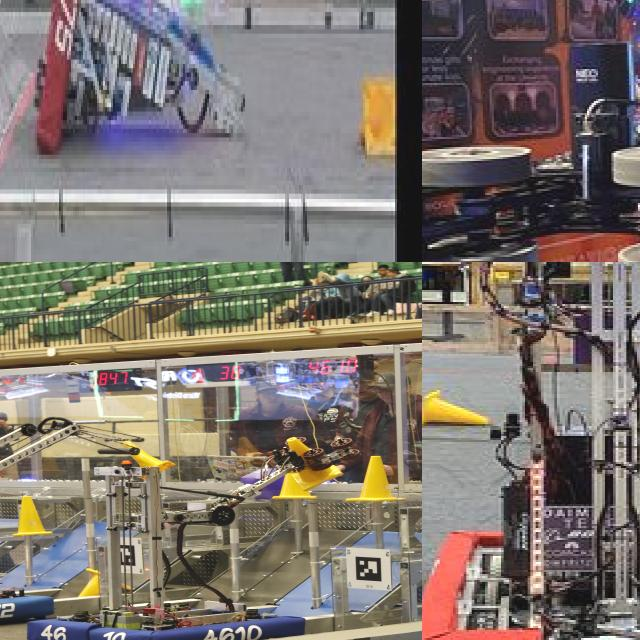FRC-Robots: (422, 262, 640, 640), (422, 0, 640, 262), (16, 457, 326, 640), (0, 423, 160, 640), (26, 0, 238, 153)
